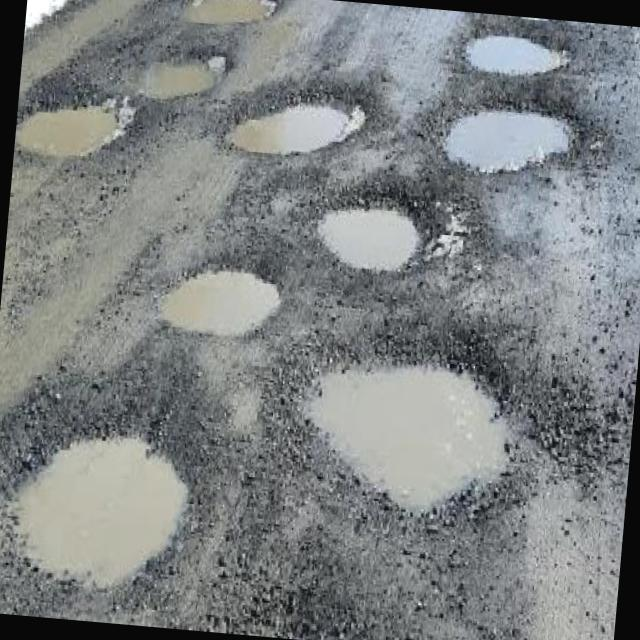Lubang: (312, 366, 505, 508), (16, 437, 185, 585), (162, 271, 279, 335), (445, 110, 568, 170), (16, 95, 135, 156), (233, 104, 364, 150), (318, 210, 418, 269), (465, 36, 566, 75), (140, 62, 214, 96), (183, 0, 264, 22)
